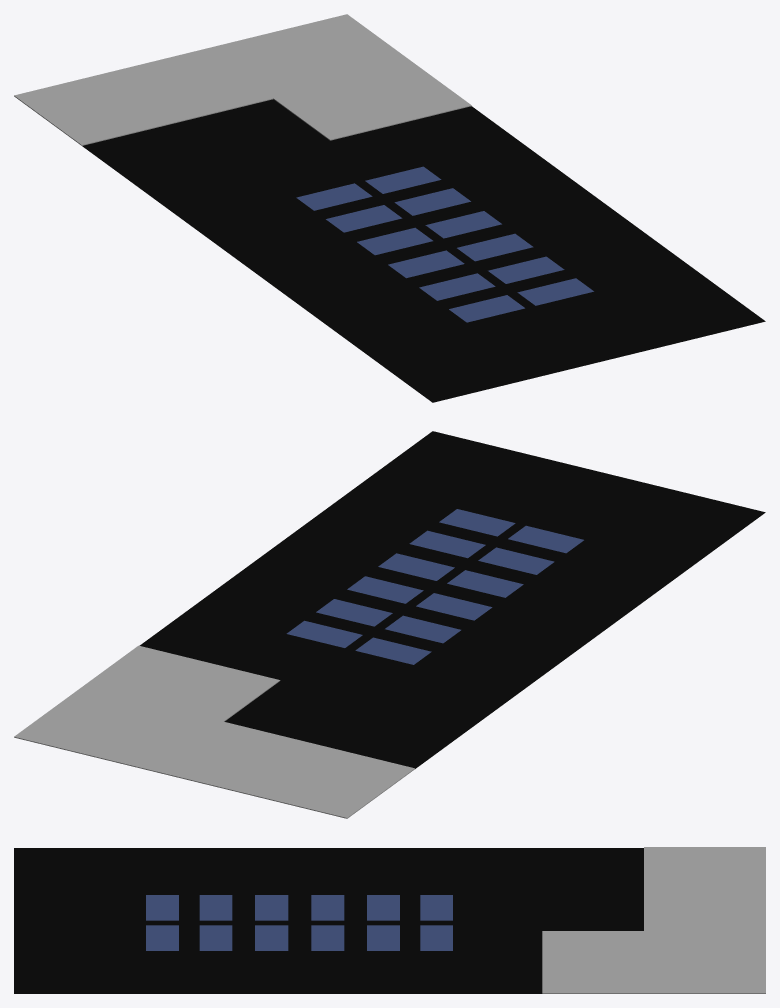
Rendered from EstacionamientoGasolinera.obj.
3 views of the same model, one above another, from view 1: azimuth 30°, elevation 25°; view 2: azimuth 150°, elevation 25°; view 3: azimuth 270°, elevation 25° (orthographic). The views are drawn at different scales.
Visible parts, largest first — view 1: EstacionamientoGasolinera; view 2: EstacionamientoGasolinera; view 3: EstacionamientoGasolinera.
Part boxes in pixels (x1,y1,x2,y2): EstacionamientoGasolinera: (14, 14, 765, 402); EstacionamientoGasolinera: (14, 431, 765, 818); EstacionamientoGasolinera: (14, 847, 765, 993).
Size of the model in its own units: 68 by 0.17 by 148.
